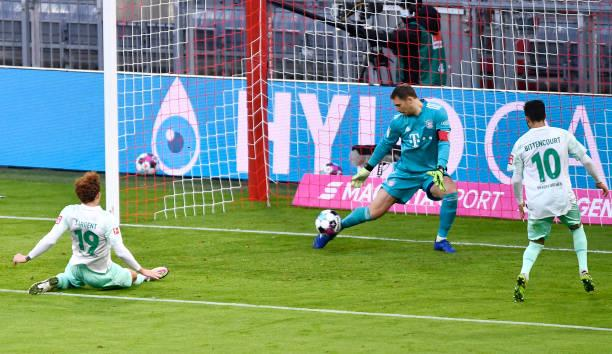Goalkeeper: (313, 85, 458, 252)
Player: (508, 99, 610, 301), (13, 171, 169, 295)
ball: (316, 209, 342, 235)
